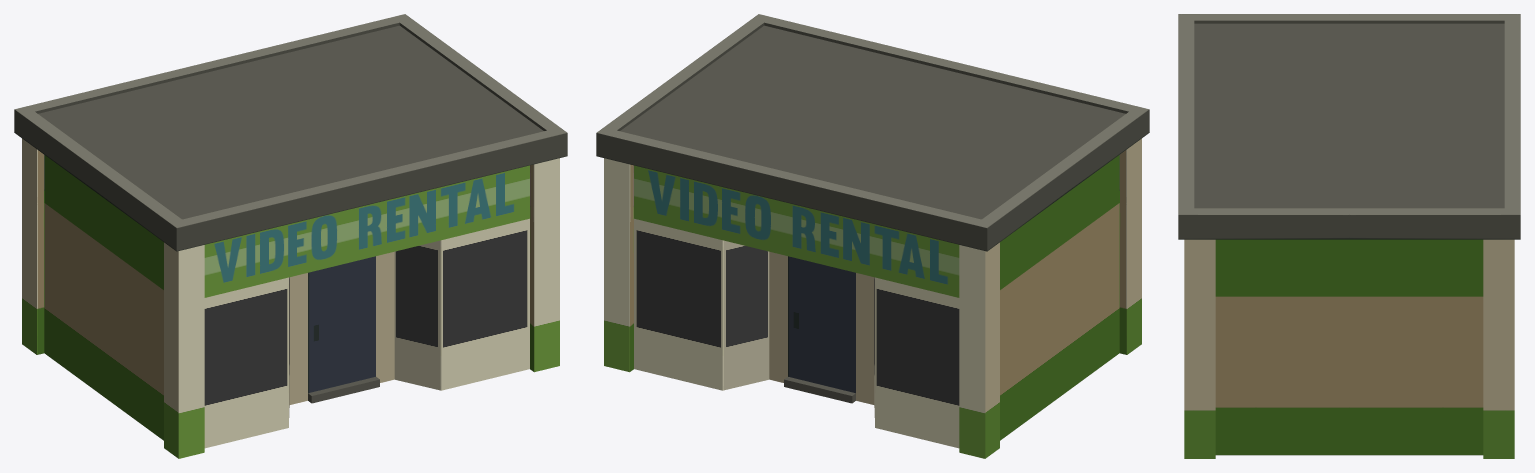
Rendered from store_small_mesh.fbx.
3 renders of one model, left to right at view 1: azimuth 30°, elevation 25°; view 2: azimuth 150°, elevation 25°; view 3: azimuth 270°, elevation 25°, orthographic. The views are drawn at different scales.
Parts seen in each view (by area): view 1: store_small_mesh; view 2: store_small_mesh; view 3: store_small_mesh.
Boxes of the visible parts, box(x1,y1,x2,y2) form: store_small_mesh: box(14, 14, 567, 458); store_small_mesh: box(596, 14, 1149, 458); store_small_mesh: box(1178, 14, 1520, 458).
Bounding box in the file's own units: 11.63 × 6.66 × 8.37.
